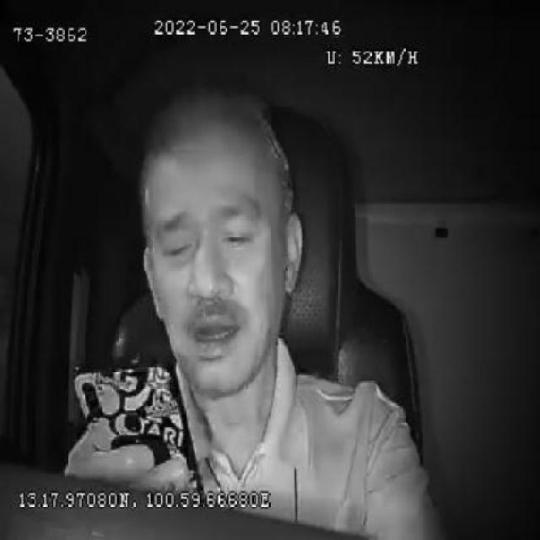phone: (70, 355, 203, 487)
